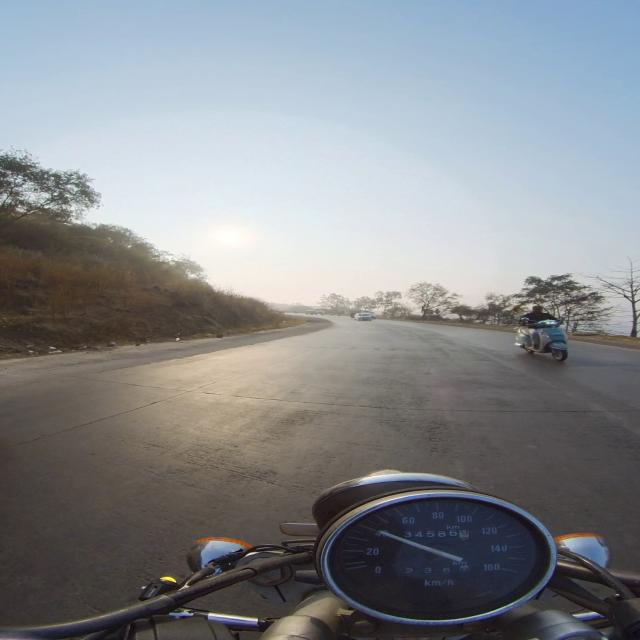motorcycle: (0, 471, 639, 639), (516, 318, 567, 361)
